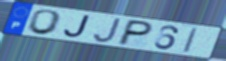6: (154, 25, 180, 51)
I: (181, 27, 200, 54)
J: (92, 17, 122, 44), (62, 15, 92, 39)
O: (25, 9, 64, 37)
P: (115, 19, 156, 47)
